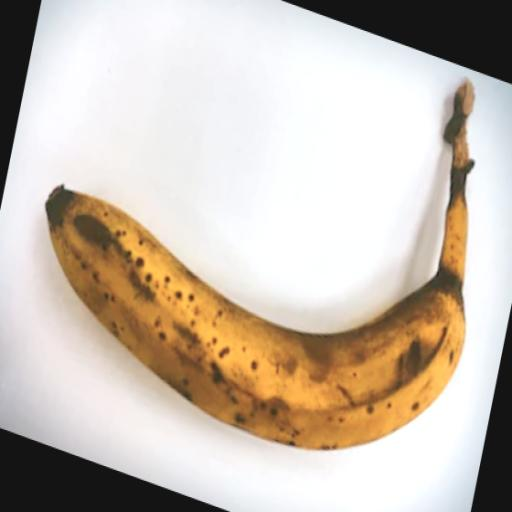banana-overripe: (12, 62, 495, 474)
